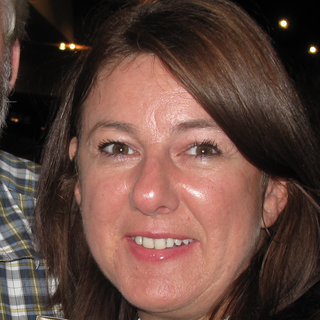eye: (94, 138, 139, 163), (178, 139, 224, 163)
